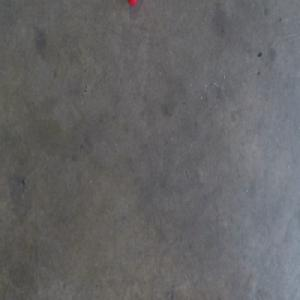Pliers: (125, 0, 137, 6)
